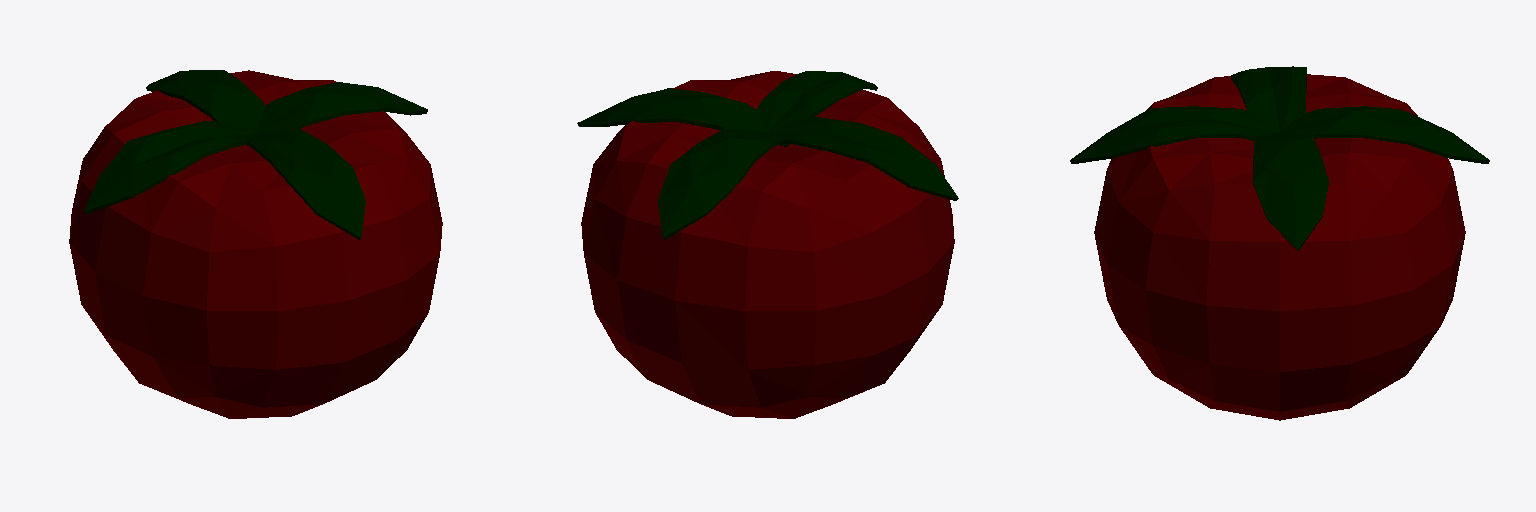
Rendered from Tomato.obj.
3 views of the same model, side by side, from view 1: azimuth 30°, elevation 25°; view 2: azimuth 150°, elevation 25°; view 3: azimuth 270°, elevation 25° (orthographic).
Parts seen in each view (by area): view 1: Tomato_Cube.010; view 2: Tomato_Cube.010; view 3: Tomato_Cube.010.
Part boxes in pixels (x1,y1,x2,y2): Tomato_Cube.010: (69, 70, 442, 418); Tomato_Cube.010: (577, 71, 958, 418); Tomato_Cube.010: (1070, 66, 1489, 420).
Size of the model in its own units: 1.9 by 1.45 by 1.9.